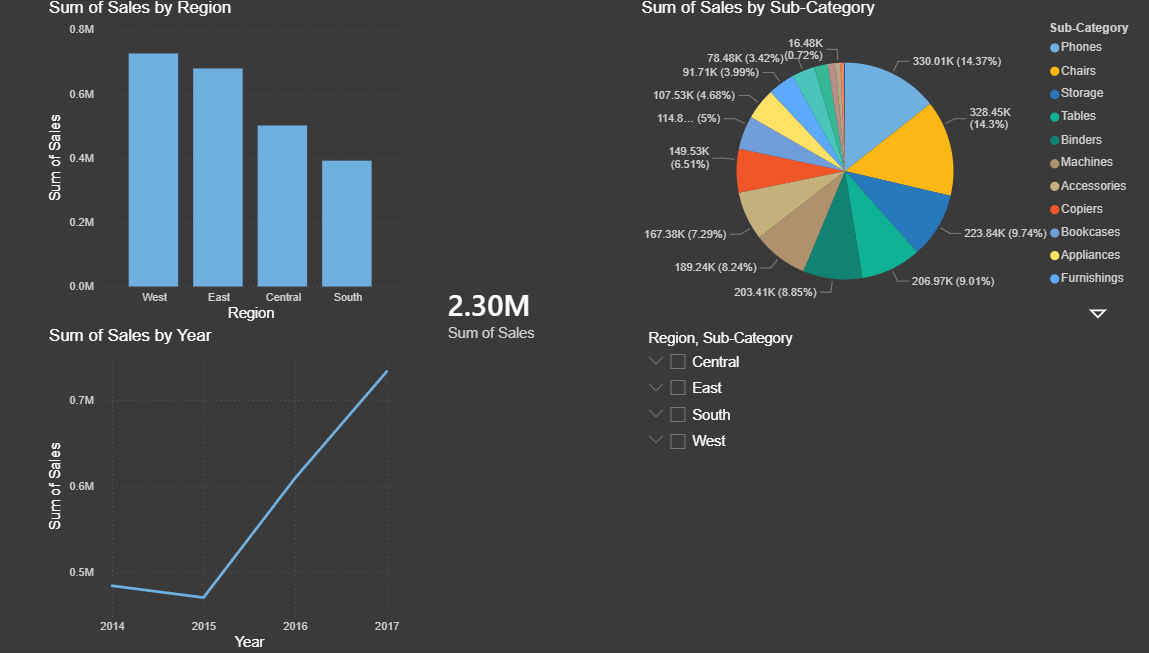

The page's visual inventory and layout, read from the dashboard file:
{"tool":"powerbi","page":{"name":"Page 1","canvas":[1280,720],"ordinal":0},"visuals":[{"type":"columnChart","fields":{"Category":["Sample - Superstore.Region"],"Y":["Sum(Sample - Superstore.Sales)"]},"box":[67.2,0,395.2,359.5],"z":0},{"type":"lineChart","fields":{"Category":["Sample - Superstore.Order Date.Variation.Date Hierarchy.Year","Sample - Superstore.Order Date.Variation.Date Hierarchy.Quarter","Sample - Superstore.Order Date.Variation.Date Hierarchy.Month","Sample - Superstore.Order Date.Variation.Date Hierarchy.Day"],"Y":["Sum(Sample - Superstore.Sales)"]},"box":[67.2,359.5,395.2,360.9],"z":1000},{"type":"pieChart","fields":{"Category":["Sample - Superstore.Sub-Category"],"Y":["Sum(Sample - Superstore.Sales)"]},"box":[717.7,0,562.6,359.5],"z":2000},{"type":"cardVisual","fields":{"Data":["Sum(Sample - Superstore.Sales)"]},"box":[480.3,112.5,209.9,465.2],"z":3000},{"type":"slicer","fields":{"Values":["Sample - Superstore.Region","Sample - Superstore.Sub-Category"]},"box":[717.7,359.5,562.6,360.9],"z":4000}]}

Visuals, with their boxes in screenshot pixels (x1, y1, x2, y2), scaled from the page's 1280x720 canvas onto the 1149x653 screenshot:
columnChart - Sample - Superstore.Region x Sum(Sample - Superstore.Sales): 60,0,415,326
lineChart - Sample - Superstore.Order Date.Variation.Date Hierarchy.Year x Sample - Superstore.Order Date.Variation.Date Hierarchy.Quarter: 60,326,415,652
pieChart - Sample - Superstore.Sub-Category x Sum(Sample - Superstore.Sales): 644,0,1148,326
cardVisual - Sum(Sample - Superstore.Sales): 431,102,620,524
slicer - Sample - Superstore.Region x Sample - Superstore.Sub-Category: 644,326,1148,652
